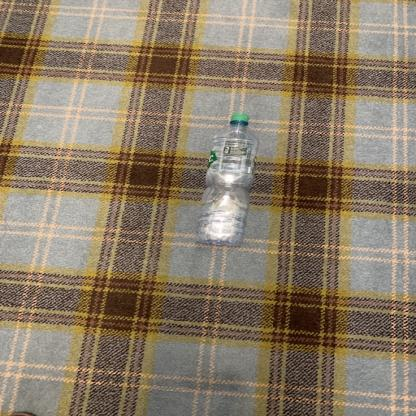trash: (194, 114, 261, 249)
